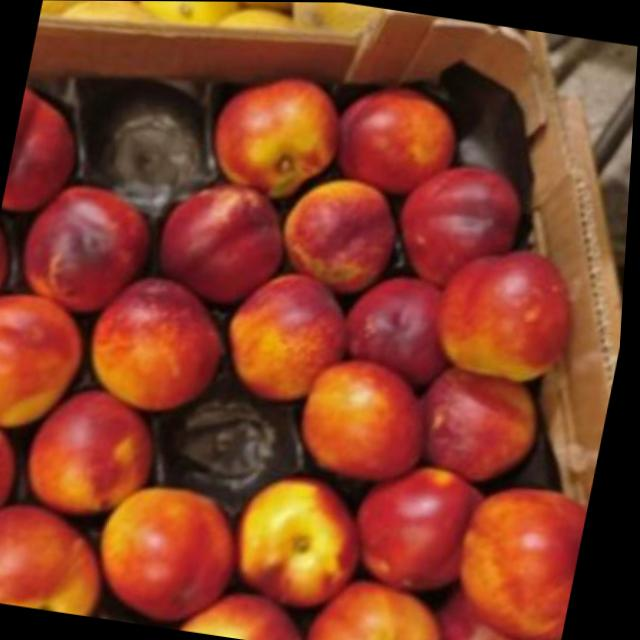Nectarine: (91, 467, 252, 627), (431, 246, 591, 385), (206, 56, 357, 202), (233, 466, 376, 620), (90, 269, 235, 420), (287, 352, 444, 485), (223, 260, 356, 407)
